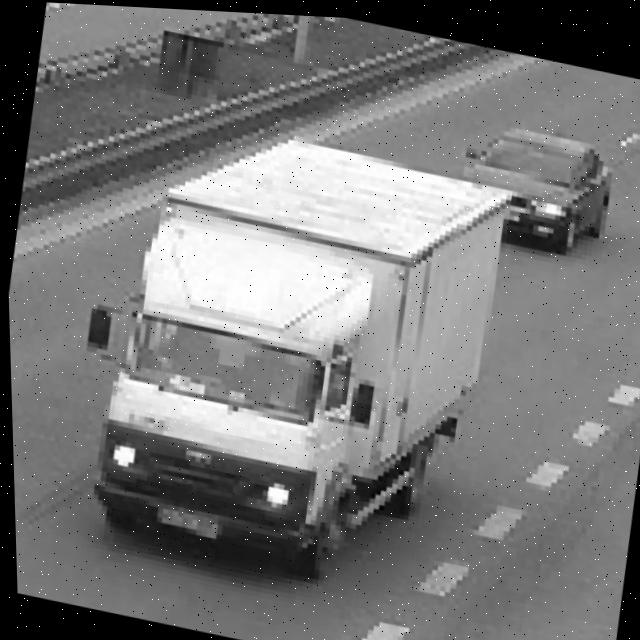truck: (33, 190, 418, 603)
